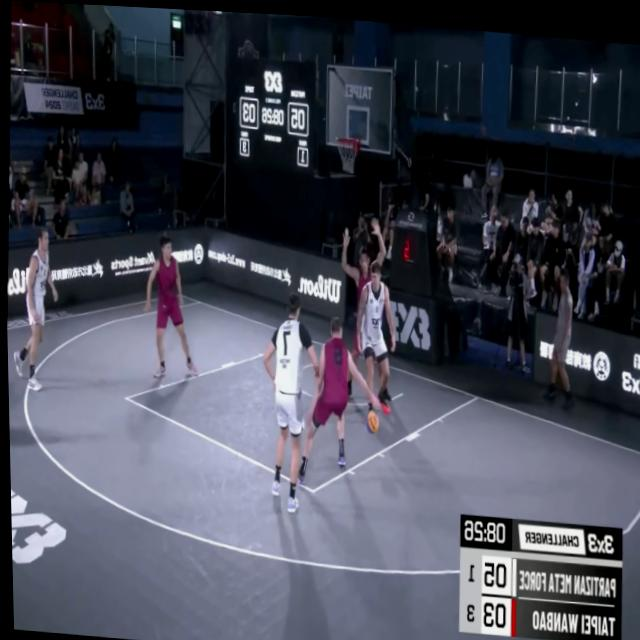ball: (363, 405, 379, 432)
hoop: (333, 124, 362, 173)
player: (287, 303, 384, 489), (250, 283, 323, 513), (332, 210, 393, 394), (136, 226, 202, 384), (5, 220, 61, 399), (351, 252, 399, 416)
